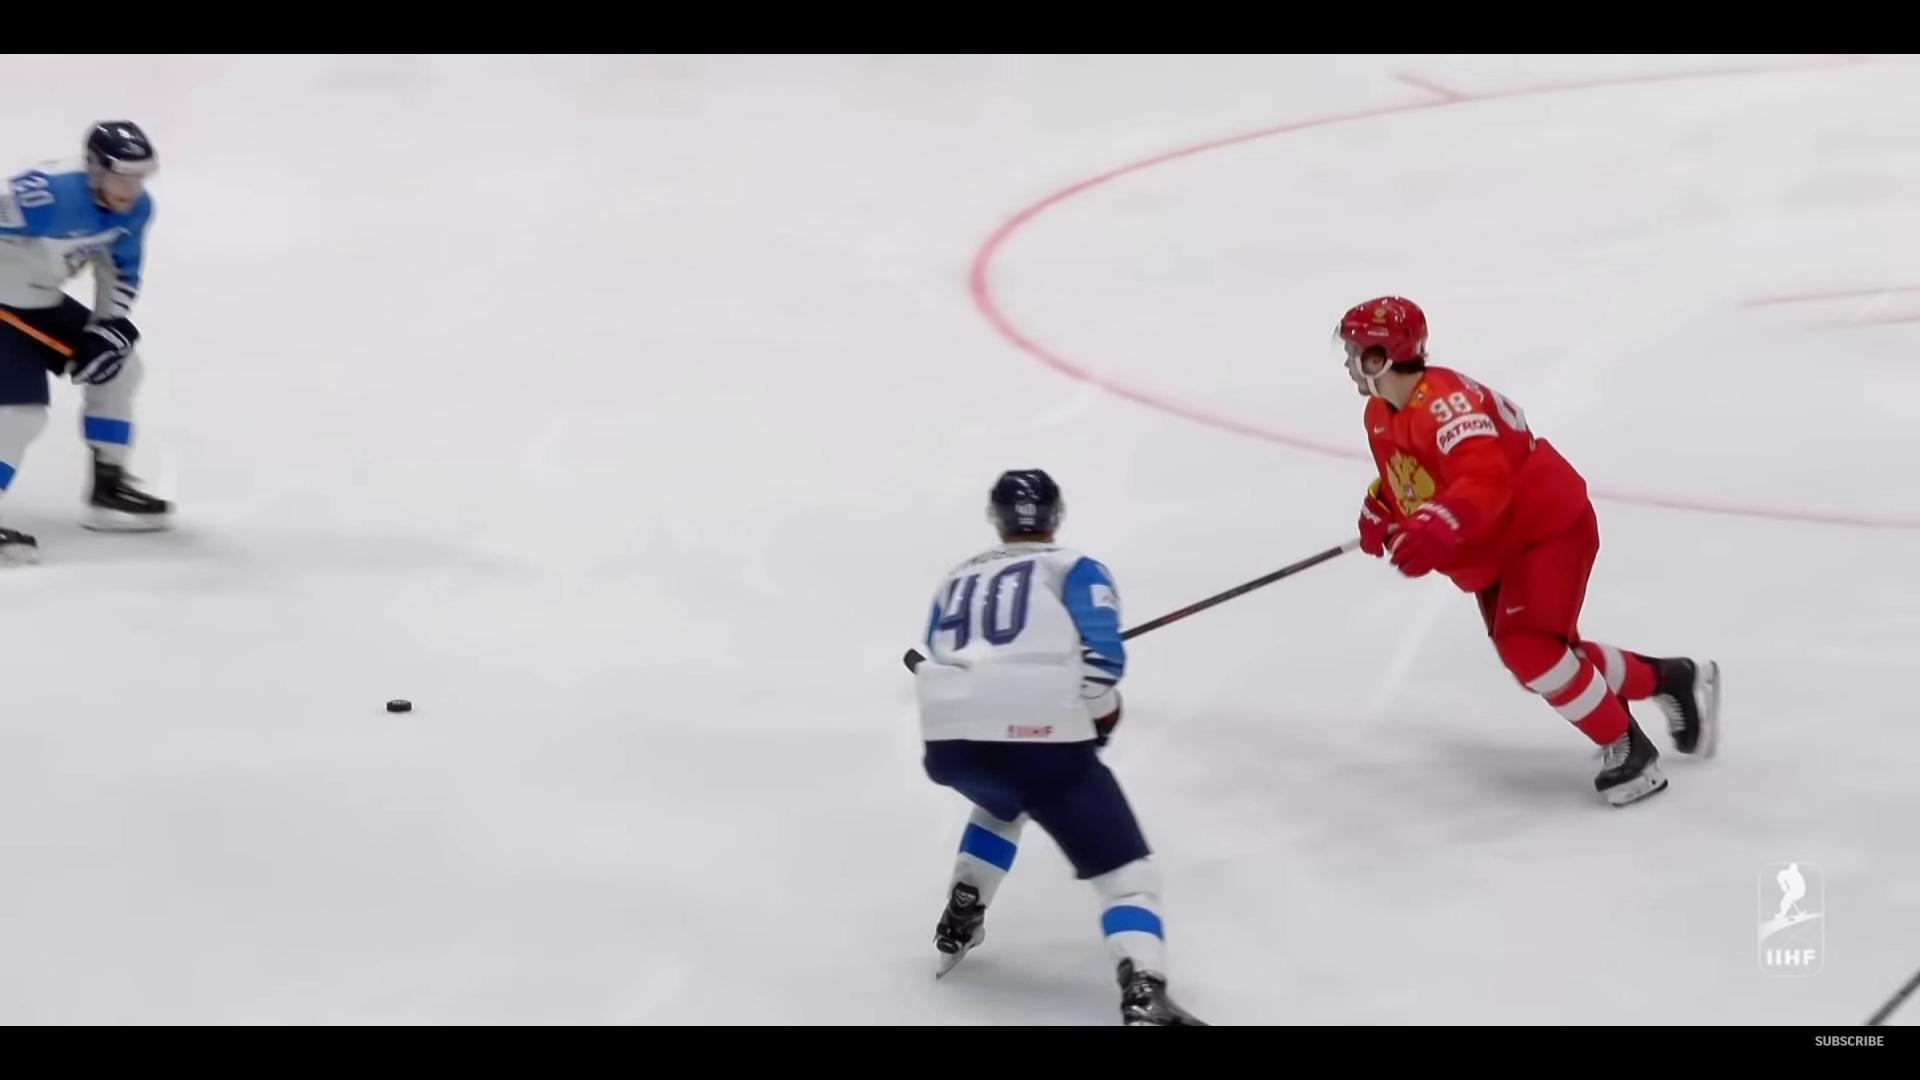puck: (385, 699, 411, 712)
